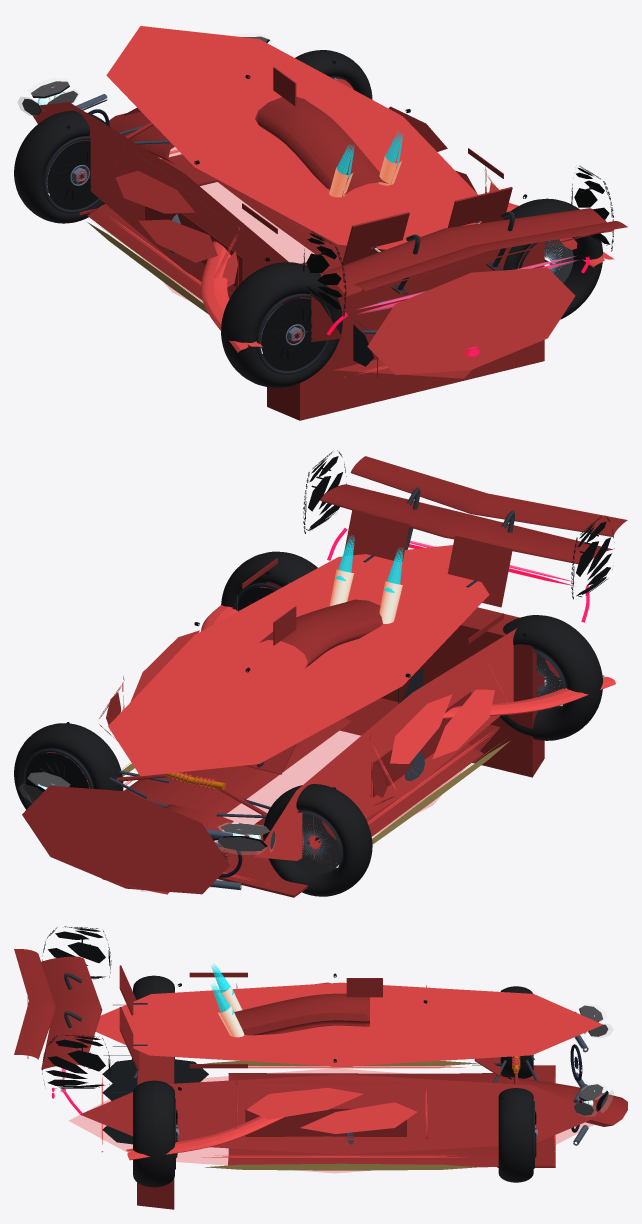
File: vehicle_nurburgring_dssv_stance_king.glb
3 renders of one model, top to bottom at view 1: azimuth 30°, elevation 25°; view 2: azimuth 150°, elevation 25°; view 3: azimuth 270°, elevation 25°, orthographic. The views are drawn at different scales.
Parts seen in each view (by area): view 1: MASTER_VEHICLE_NURBURGRING_DSSV_STANCE_KING, ACTIVE_GURNEY_FLAP_LIP, MICHELIN_CUP_2R_TRACK_TIRE.002, MICHELIN_CUP_2R_TRACK_TIRE, MULTI_ZONE_NEON_UNDERGLOW_SYSTEM, MICHELIN_CUP_2R_TRACK_TIRE.003, AERO_TURBOFAN_COVER.002, AERODYNAMIC_ENDPLATE_ASSEMBLY, AERO_TURBOFAN_COVER, FRONT_MATRIX_HEADLIGHT_CLUSTER, MICHELIN_CUP_2R_TRACK_TIRE.001, QUAD_EXHAUST_INCONEL_TITANIUM_ASSEMBLY (+7 smaller); view 2: MASTER_VEHICLE_NURBURGRING_DSSV_STANCE_KING, ACTIVE_GURNEY_FLAP_LIP, MICHELIN_CUP_2R_TRACK_TIRE.002, MICHELIN_CUP_2R_TRACK_TIRE, MULTI_ZONE_NEON_UNDERGLOW_SYSTEM, MICHELIN_CUP_2R_TRACK_TIRE.001, AERODYNAMIC_ENDPLATE_ASSEMBLY, FRONT_MATRIX_HEADLIGHT_CLUSTER, MICHELIN_CUP_2R_TRACK_TIRE.003, QUAD_EXHAUST_INCONEL_TITANIUM_ASSEMBLY, FLOATING_CSIC_BRAKE_ROTOR, AERO_TURBOFAN_COVER.001 (+5 smaller); view 3: MASTER_VEHICLE_NURBURGRING_DSSV_STANCE_KING, ACTIVE_GURNEY_FLAP_LIP, MICHELIN_CUP_2R_TRACK_TIRE.003, MULTI_ZONE_NEON_UNDERGLOW_SYSTEM, MICHELIN_CUP_2R_TRACK_TIRE.001, AERODYNAMIC_ENDPLATE_ASSEMBLY, SEALING_SKIRT_LEFT, DIFFUSER_STRAKE_1, FRONT_MATRIX_HEADLIGHT_CLUSTER, QUAD_EXHAUST_INCONEL_TITANIUM_ASSEMBLY, FRONT_TWIN_RADIATORS, MICHELIN_CUP_2R_TRACK_TIRE.002 (+1 smaller).
Boxes of the visible parts, x1,y1,x2,y2 form: MASTER_VEHICLE_NURBURGRING_DSSV_STANCE_KING: [32, 26, 614, 374]; ACTIVE_GURNEY_FLAP_LIP: [78, 67, 627, 420]; MICHELIN_CUP_2R_TRACK_TIRE.002: [221, 262, 342, 387]; MICHELIN_CUP_2R_TRACK_TIRE: [14, 110, 110, 223]; MULTI_ZONE_NEON_UNDERGLOW_SYSTEM: [110, 147, 471, 378]; MICHELIN_CUP_2R_TRACK_TIRE.003: [503, 198, 602, 319]; AERO_TURBOFAN_COVER.002: [261, 298, 326, 370]; AERODYNAMIC_ENDPLATE_ASSEMBLY: [303, 165, 613, 316]; AERO_TURBOFAN_COVER: [47, 140, 97, 209]; FRONT_MATRIX_HEADLIGHT_CLUSTER: [18, 33, 577, 317]; MICHELIN_CUP_2R_TRACK_TIRE.001: [295, 50, 372, 99]; QUAD_EXHAUST_INCONEL_TITANIUM_ASSEMBLY: [329, 130, 403, 197]; MASTER_VEHICLE_NURBURGRING_DSSV_STANCE_KING: [22, 545, 615, 894]; ACTIVE_GURNEY_FLAP_LIP: [87, 456, 627, 897]; MICHELIN_CUP_2R_TRACK_TIRE.002: [499, 615, 602, 740]; MICHELIN_CUP_2R_TRACK_TIRE: [263, 784, 372, 896]; MULTI_ZONE_NEON_UNDERGLOW_SYSTEM: [124, 698, 499, 891]; MICHELIN_CUP_2R_TRACK_TIRE.001: [14, 723, 123, 809]; AERODYNAMIC_ENDPLATE_ASSEMBLY: [303, 450, 614, 599]; FRONT_MATRIX_HEADLIGHT_CLUSTER: [18, 540, 590, 854]; MICHELIN_CUP_2R_TRACK_TIRE.003: [221, 551, 317, 607]; QUAD_EXHAUST_INCONEL_TITANIUM_ASSEMBLY: [329, 535, 403, 623]; FLOATING_CSIC_BRAKE_ROTOR: [294, 813, 340, 874]; AERO_TURBOFAN_COVER.001: [25, 753, 89, 802]; MASTER_VEHICLE_NURBURGRING_DSSV_STANCE_KING: [81, 982, 602, 1160]; ACTIVE_GURNEY_FLAP_LIP: [14, 949, 627, 1209]; MICHELIN_CUP_2R_TRACK_TIRE.003: [133, 1080, 174, 1187]; MULTI_ZONE_NEON_UNDERGLOW_SYSTEM: [69, 1066, 593, 1172]; MICHELIN_CUP_2R_TRACK_TIRE.001: [498, 1088, 533, 1182]; AERODYNAMIC_ENDPLATE_ASSEMBLY: [42, 926, 111, 1088]; SEALING_SKIRT_LEFT: [204, 1059, 478, 1170]; DIFFUSER_STRAKE_1: [102, 1055, 208, 1144]; FRONT_MATRIX_HEADLIGHT_CLUSTER: [60, 1004, 613, 1116]; QUAD_EXHAUST_INCONEL_TITANIUM_ASSEMBLY: [211, 963, 244, 1037]; FRONT_TWIN_RADIATORS: [344, 1035, 588, 1145]; MICHELIN_CUP_2R_TRACK_TIRE.002: [133, 975, 174, 1059].
Bounding box in the file's own units: 2.79 × 1.57 × 4.75.
